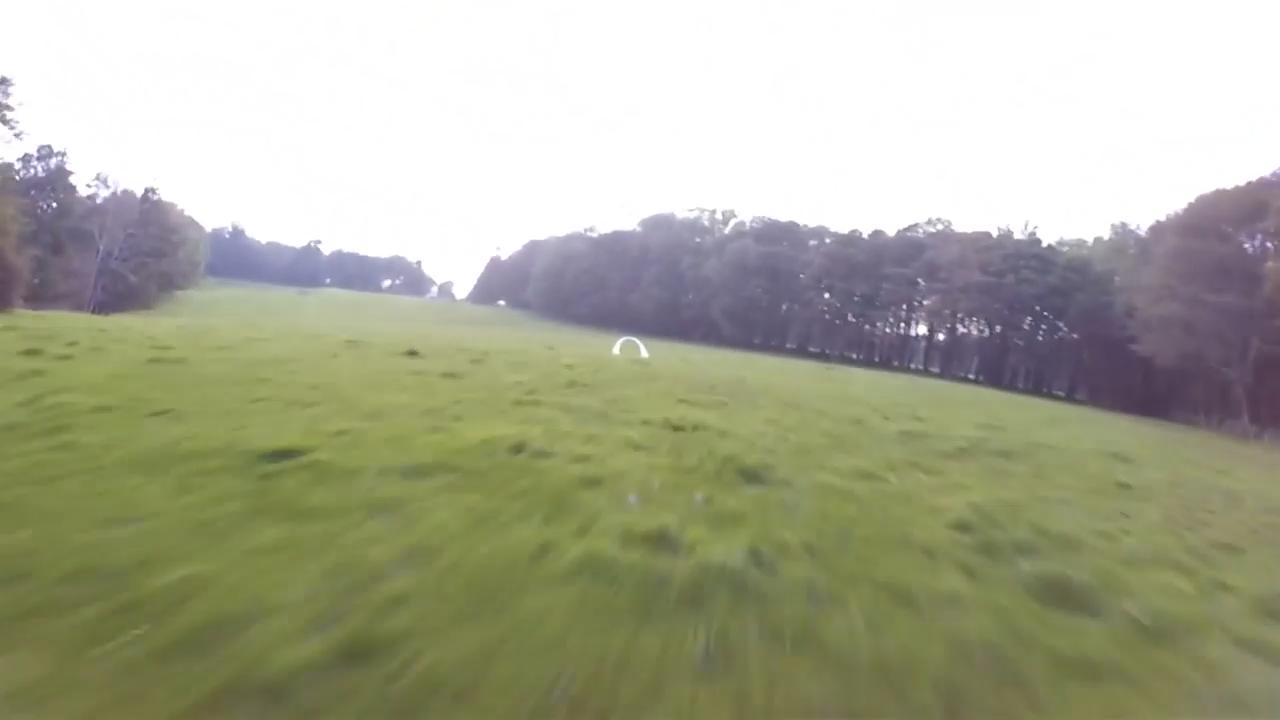gate: (612, 335, 651, 360)
